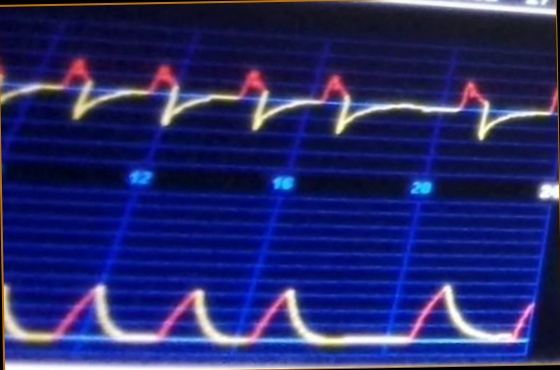Accumulation Flow: (1, 40, 558, 158)
Volume: (3, 247, 535, 355)
